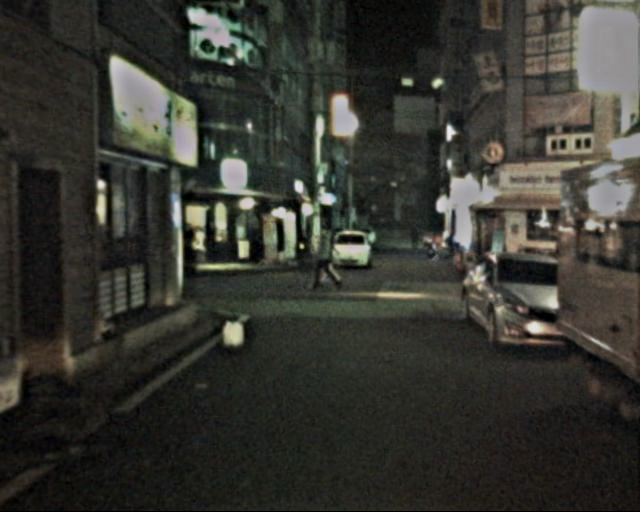person: (310, 224, 339, 297)
